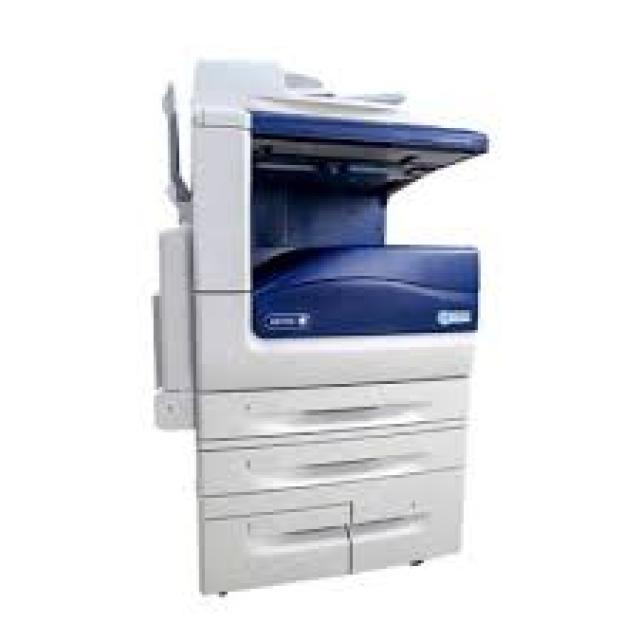printer: (107, 34, 544, 622)
